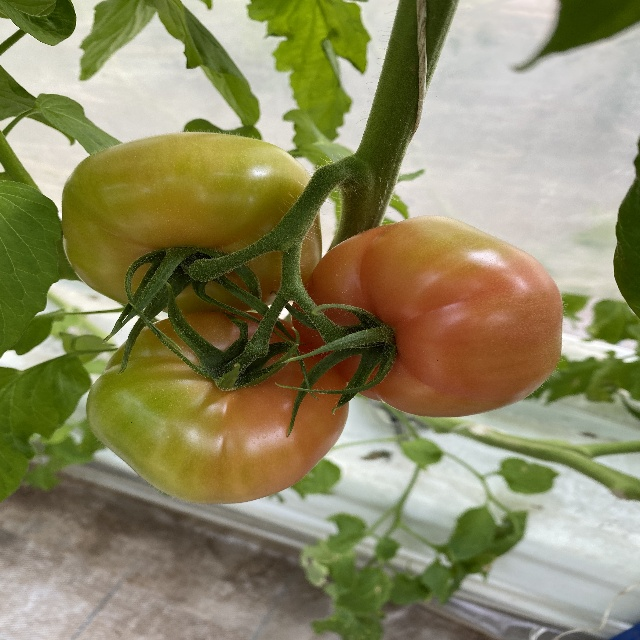b_half_ripened: (291, 215, 564, 418), (86, 311, 350, 505), (62, 132, 322, 315)
